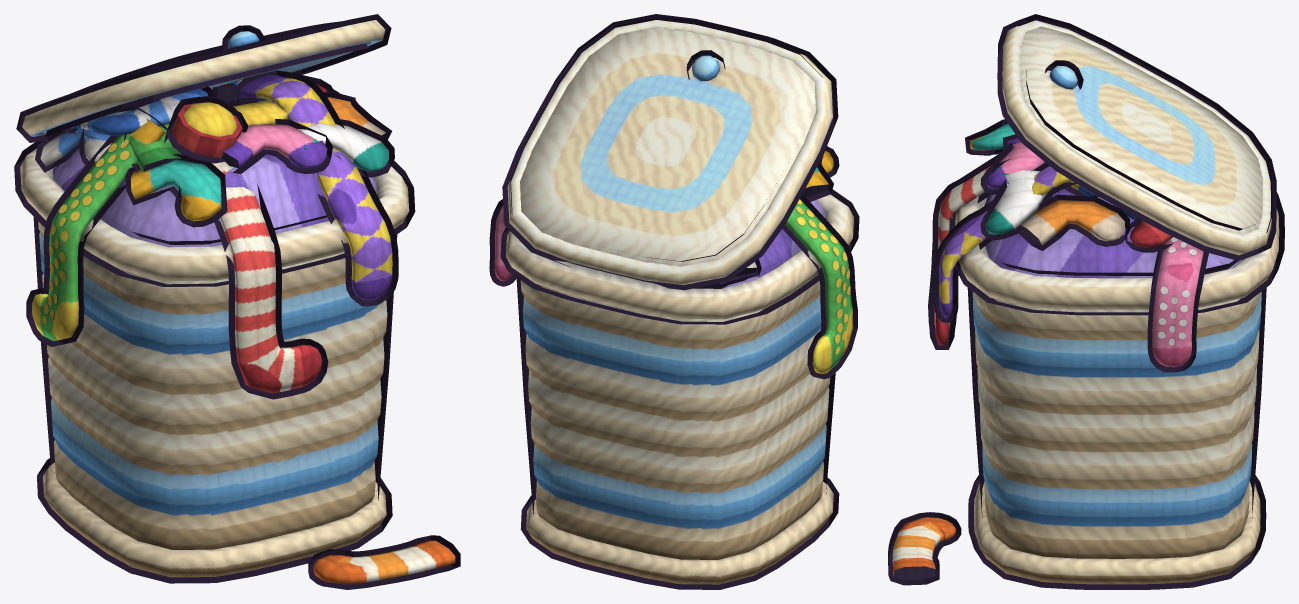
The model's file is Hamper.glb.
The picture shows the model from 3 angles, left to right: view 1: azimuth 30°, elevation 25°; view 2: azimuth 150°, elevation 25°; view 3: azimuth 270°, elevation 25°; orthographic projection. The views are drawn at different scales.
Parts seen in each view (by area): view 1: Hamper, Hamper_Outline; view 2: Hamper, Hamper_Outline; view 3: Hamper, Hamper_Outline.
Boxes of the visible parts, left/top/right/bottom form: Hamper: left=20, top=20, right=455, bottom=584; Hamper_Outline: left=14, top=14, right=460, bottom=589; Hamper: left=494, top=20, right=853, bottom=584; Hamper_Outline: left=489, top=14, right=859, bottom=589; Hamper: left=892, top=20, right=1279, bottom=584; Hamper_Outline: left=888, top=14, right=1284, bottom=589.
Size of the model in its own units: 7.92 by 11.09 by 8.34.
2 materials, 2 textured.
